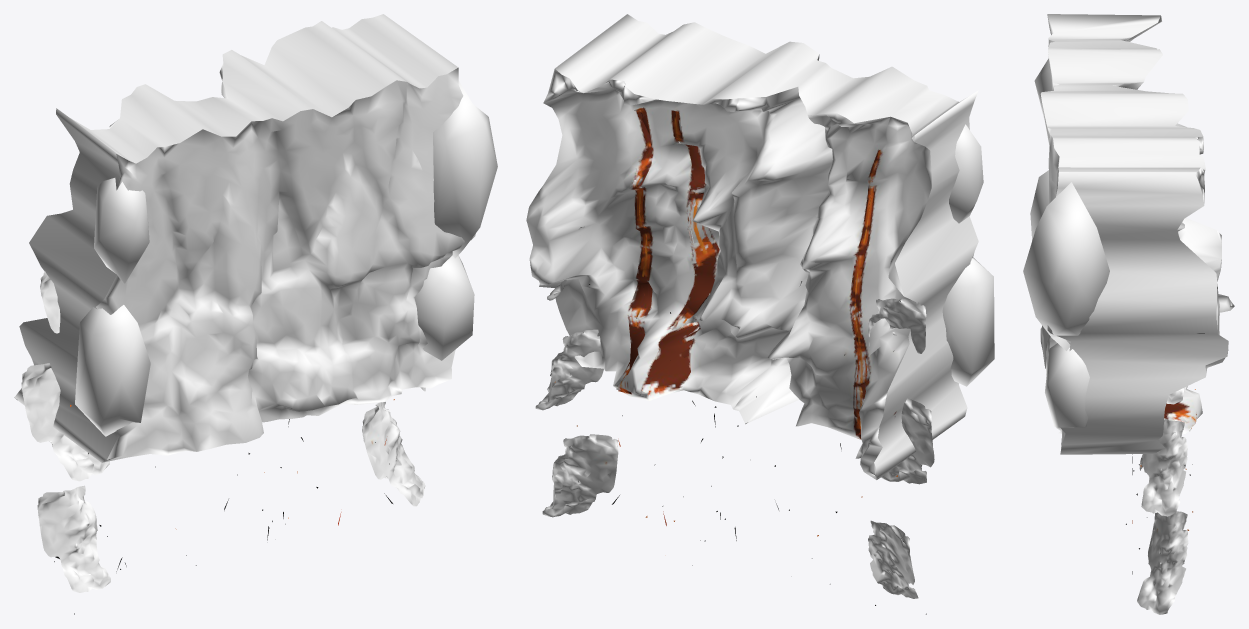
File: b4lod_v33_rockwall.glb
3 views of the same model, side by side, from view 1: azimuth 30°, elevation 25°; view 2: azimuth 150°, elevation 25°; view 3: azimuth 270°, elevation 25° (orthographic). The views are drawn at different scales.
Visible parts, largest first — view 1: b4lod_v33_rockwall; view 2: b4lod_v33_rockwall; view 3: b4lod_v33_rockwall.
Boxes of the visible parts, x1,y1,x2,y2 form: b4lod_v33_rockwall: (14,14,497,614); b4lod_v33_rockwall: (526,14,994,614); b4lod_v33_rockwall: (1023,14,1234,614).
Bounding box in the file's own units: 48.58 × 56.84 × 23.84.
1 material, 1 textured.
